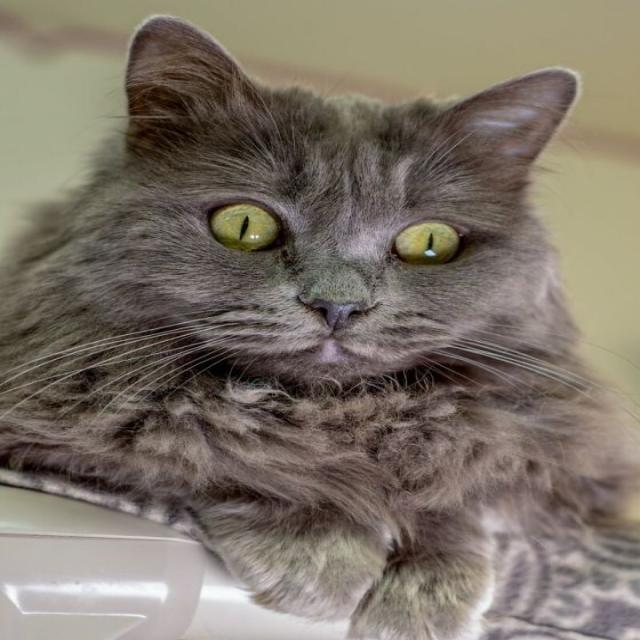domestic_long_hair_cat: (78, 11, 604, 404)
